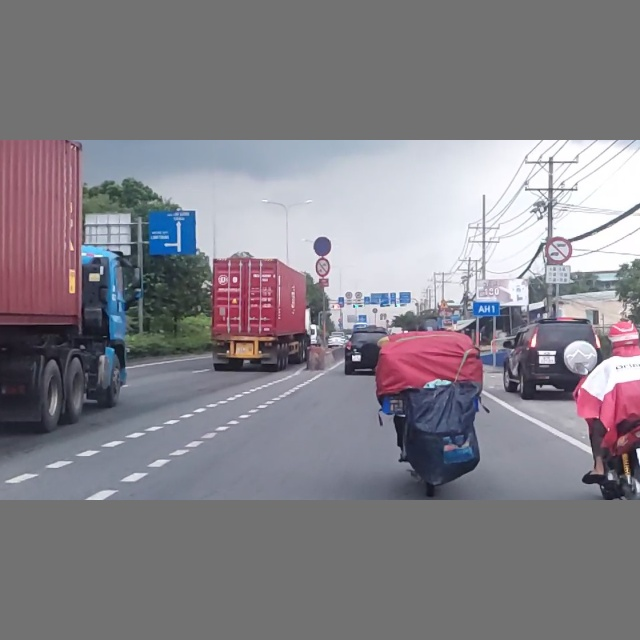P.111: (314, 257, 332, 276)
P.130: (313, 237, 332, 255)
